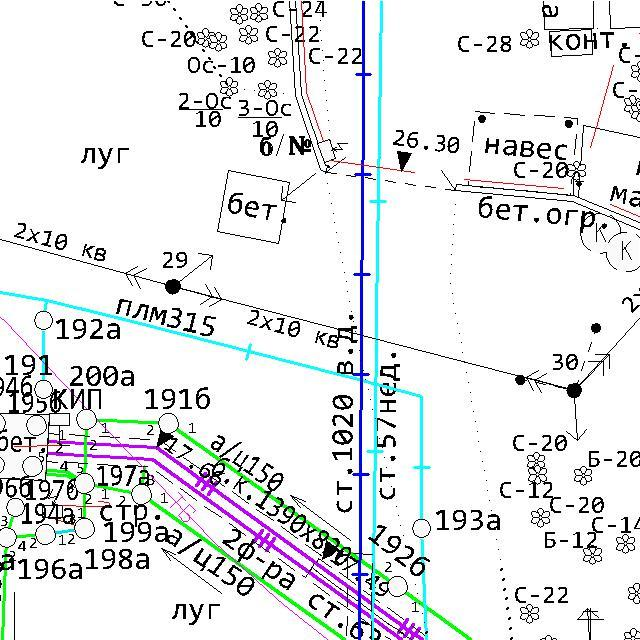bushes: (578, 210, 623, 256), (605, 230, 640, 274), (266, 46, 289, 69), (529, 506, 552, 529), (614, 532, 637, 555), (228, 2, 250, 26), (518, 27, 540, 50), (248, 2, 270, 24), (238, 24, 260, 46), (256, 79, 278, 101), (526, 464, 548, 486), (582, 544, 604, 566), (519, 603, 541, 625), (566, 159, 587, 182), (209, 30, 229, 53), (219, 75, 239, 98), (573, 464, 593, 486), (525, 451, 546, 468), (196, 27, 212, 48)
mark: (394, 149, 413, 175), (154, 427, 174, 450), (321, 540, 340, 562)
well: (385, 572, 410, 600), (129, 481, 154, 508), (72, 515, 97, 542), (33, 521, 58, 548), (72, 471, 97, 497), (409, 516, 434, 541), (24, 412, 48, 438), (157, 410, 180, 436), (75, 408, 99, 432), (20, 454, 44, 478), (33, 309, 56, 333), (4, 496, 28, 519), (33, 378, 55, 401)
